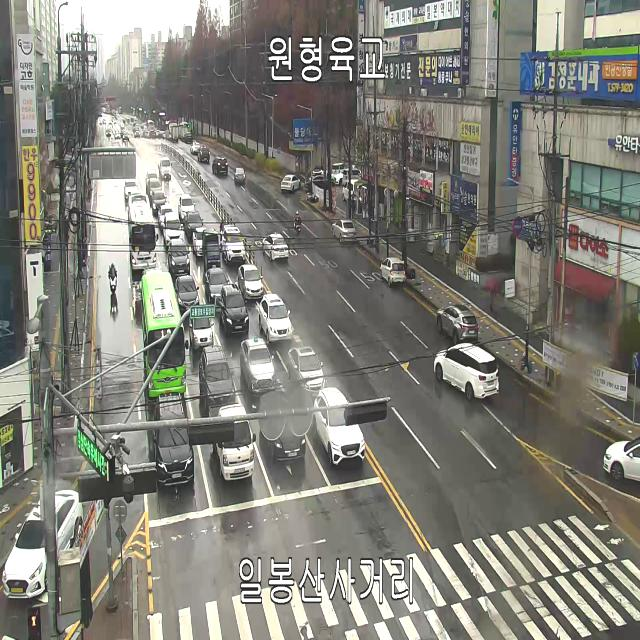Bus: (141, 272, 189, 398), (128, 194, 158, 270)
Car: (2, 489, 83, 600), (312, 387, 365, 466), (153, 392, 194, 486), (208, 403, 256, 481), (434, 343, 499, 400), (260, 391, 306, 461), (198, 345, 236, 413), (240, 337, 276, 397), (288, 346, 326, 398), (603, 436, 640, 482), (258, 294, 292, 344), (437, 305, 478, 344), (220, 284, 250, 333), (174, 275, 200, 315), (238, 265, 264, 301), (222, 225, 246, 264), (205, 268, 229, 304), (168, 239, 190, 276), (379, 257, 405, 287), (262, 234, 289, 262), (163, 212, 183, 246), (184, 209, 204, 239), (331, 219, 357, 242), (342, 179, 362, 206), (178, 194, 196, 220), (334, 168, 361, 185), (192, 228, 207, 256), (146, 179, 162, 203), (158, 204, 173, 227), (152, 190, 167, 213), (281, 175, 301, 192), (306, 173, 328, 187), (212, 156, 228, 175), (124, 179, 138, 199), (158, 158, 172, 176), (332, 162, 344, 182), (198, 145, 210, 162), (146, 170, 160, 184), (234, 168, 246, 184), (313, 167, 328, 179), (190, 142, 200, 153), (185, 132, 192, 144), (122, 132, 130, 141), (348, 164, 360, 169), (114, 132, 120, 140), (106, 130, 112, 136)
Truck: (202, 228, 222, 269)
